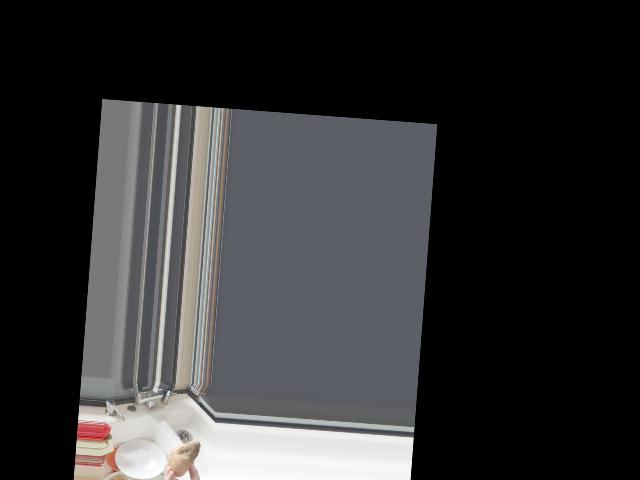sweet_potato: (166, 438, 203, 478)
